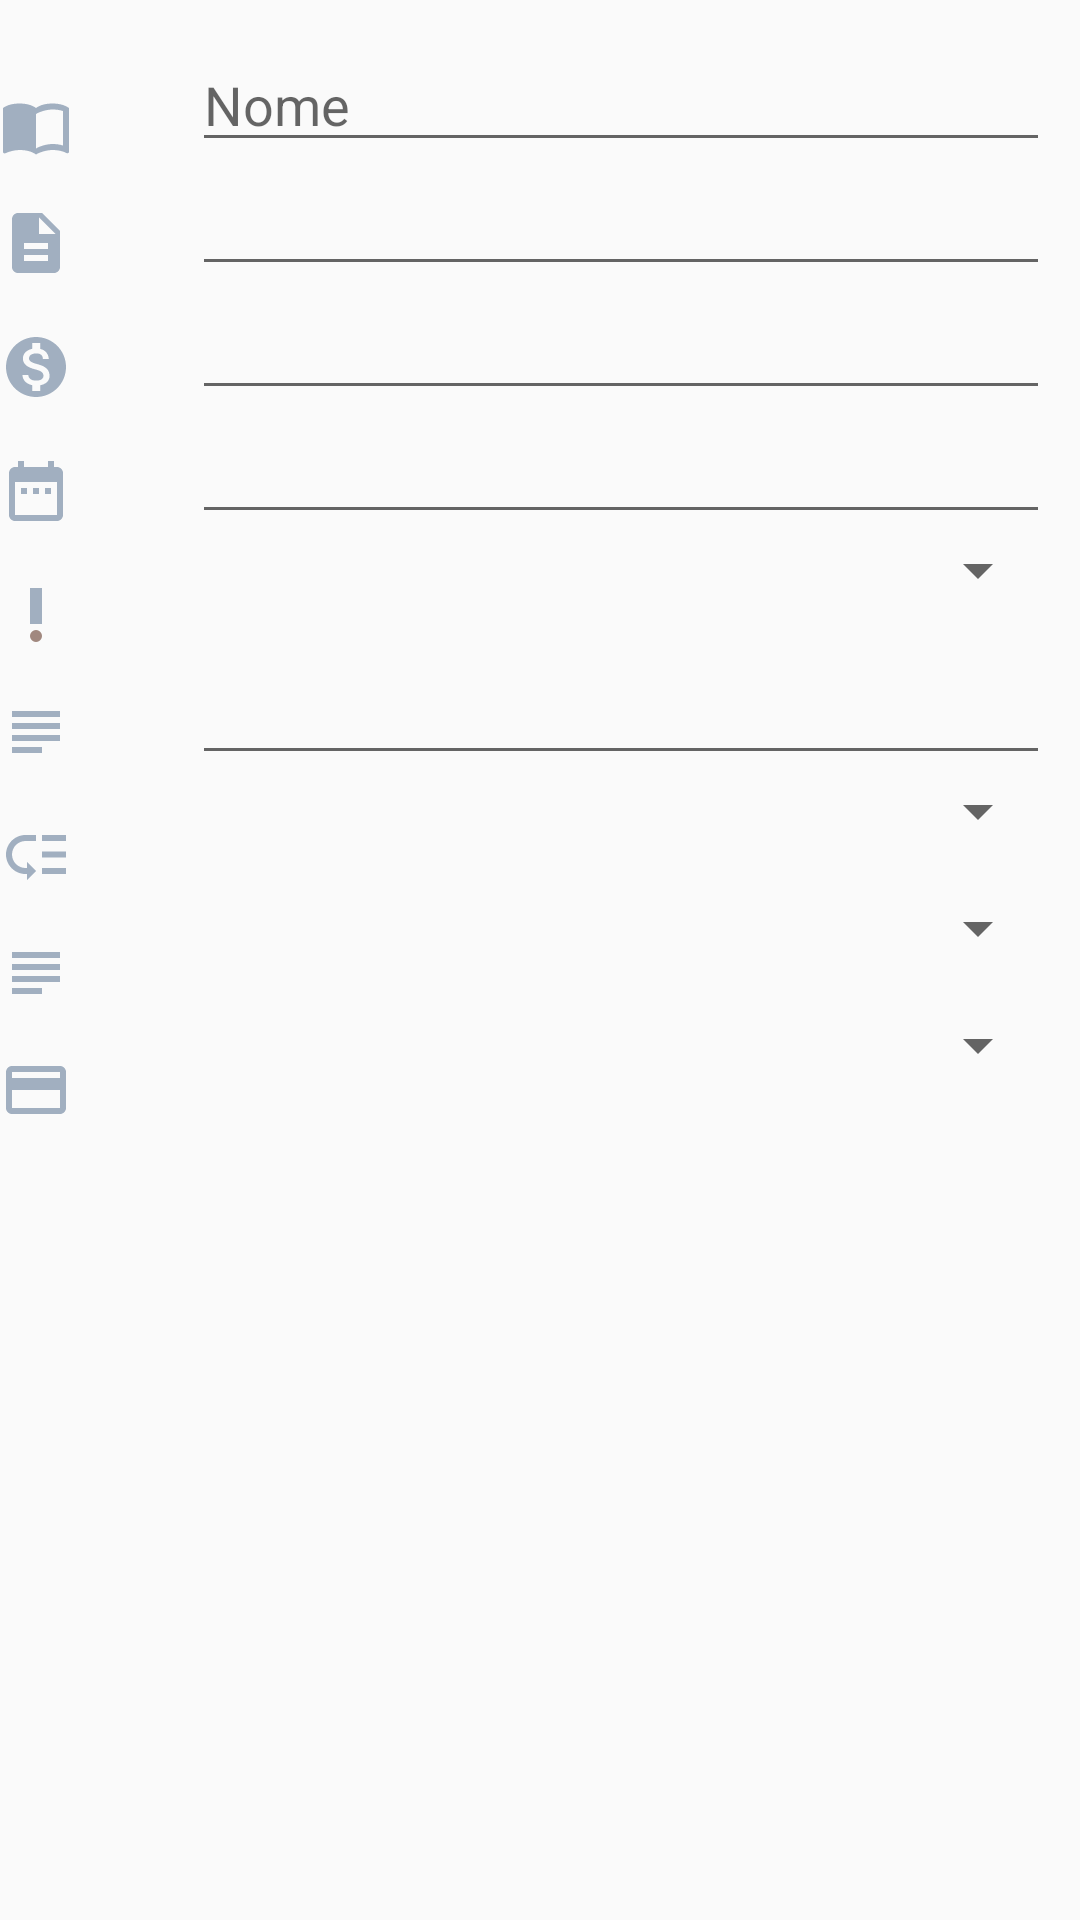

Where icons sit on this 1080px×1920px app screen, as (x1, y1, x2, y2):
credit card: (6, 1066, 66, 1114)
date: (9, 461, 63, 521)
description: (12, 213, 60, 273)
money: (6, 337, 66, 397)
subject: (12, 711, 60, 753), (12, 952, 60, 994)
